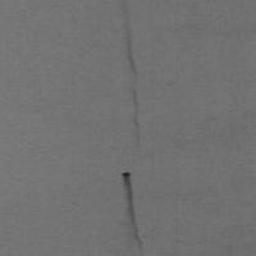Inclusion: (122, 170, 145, 256), (122, 0, 140, 77), (132, 87, 142, 143)
